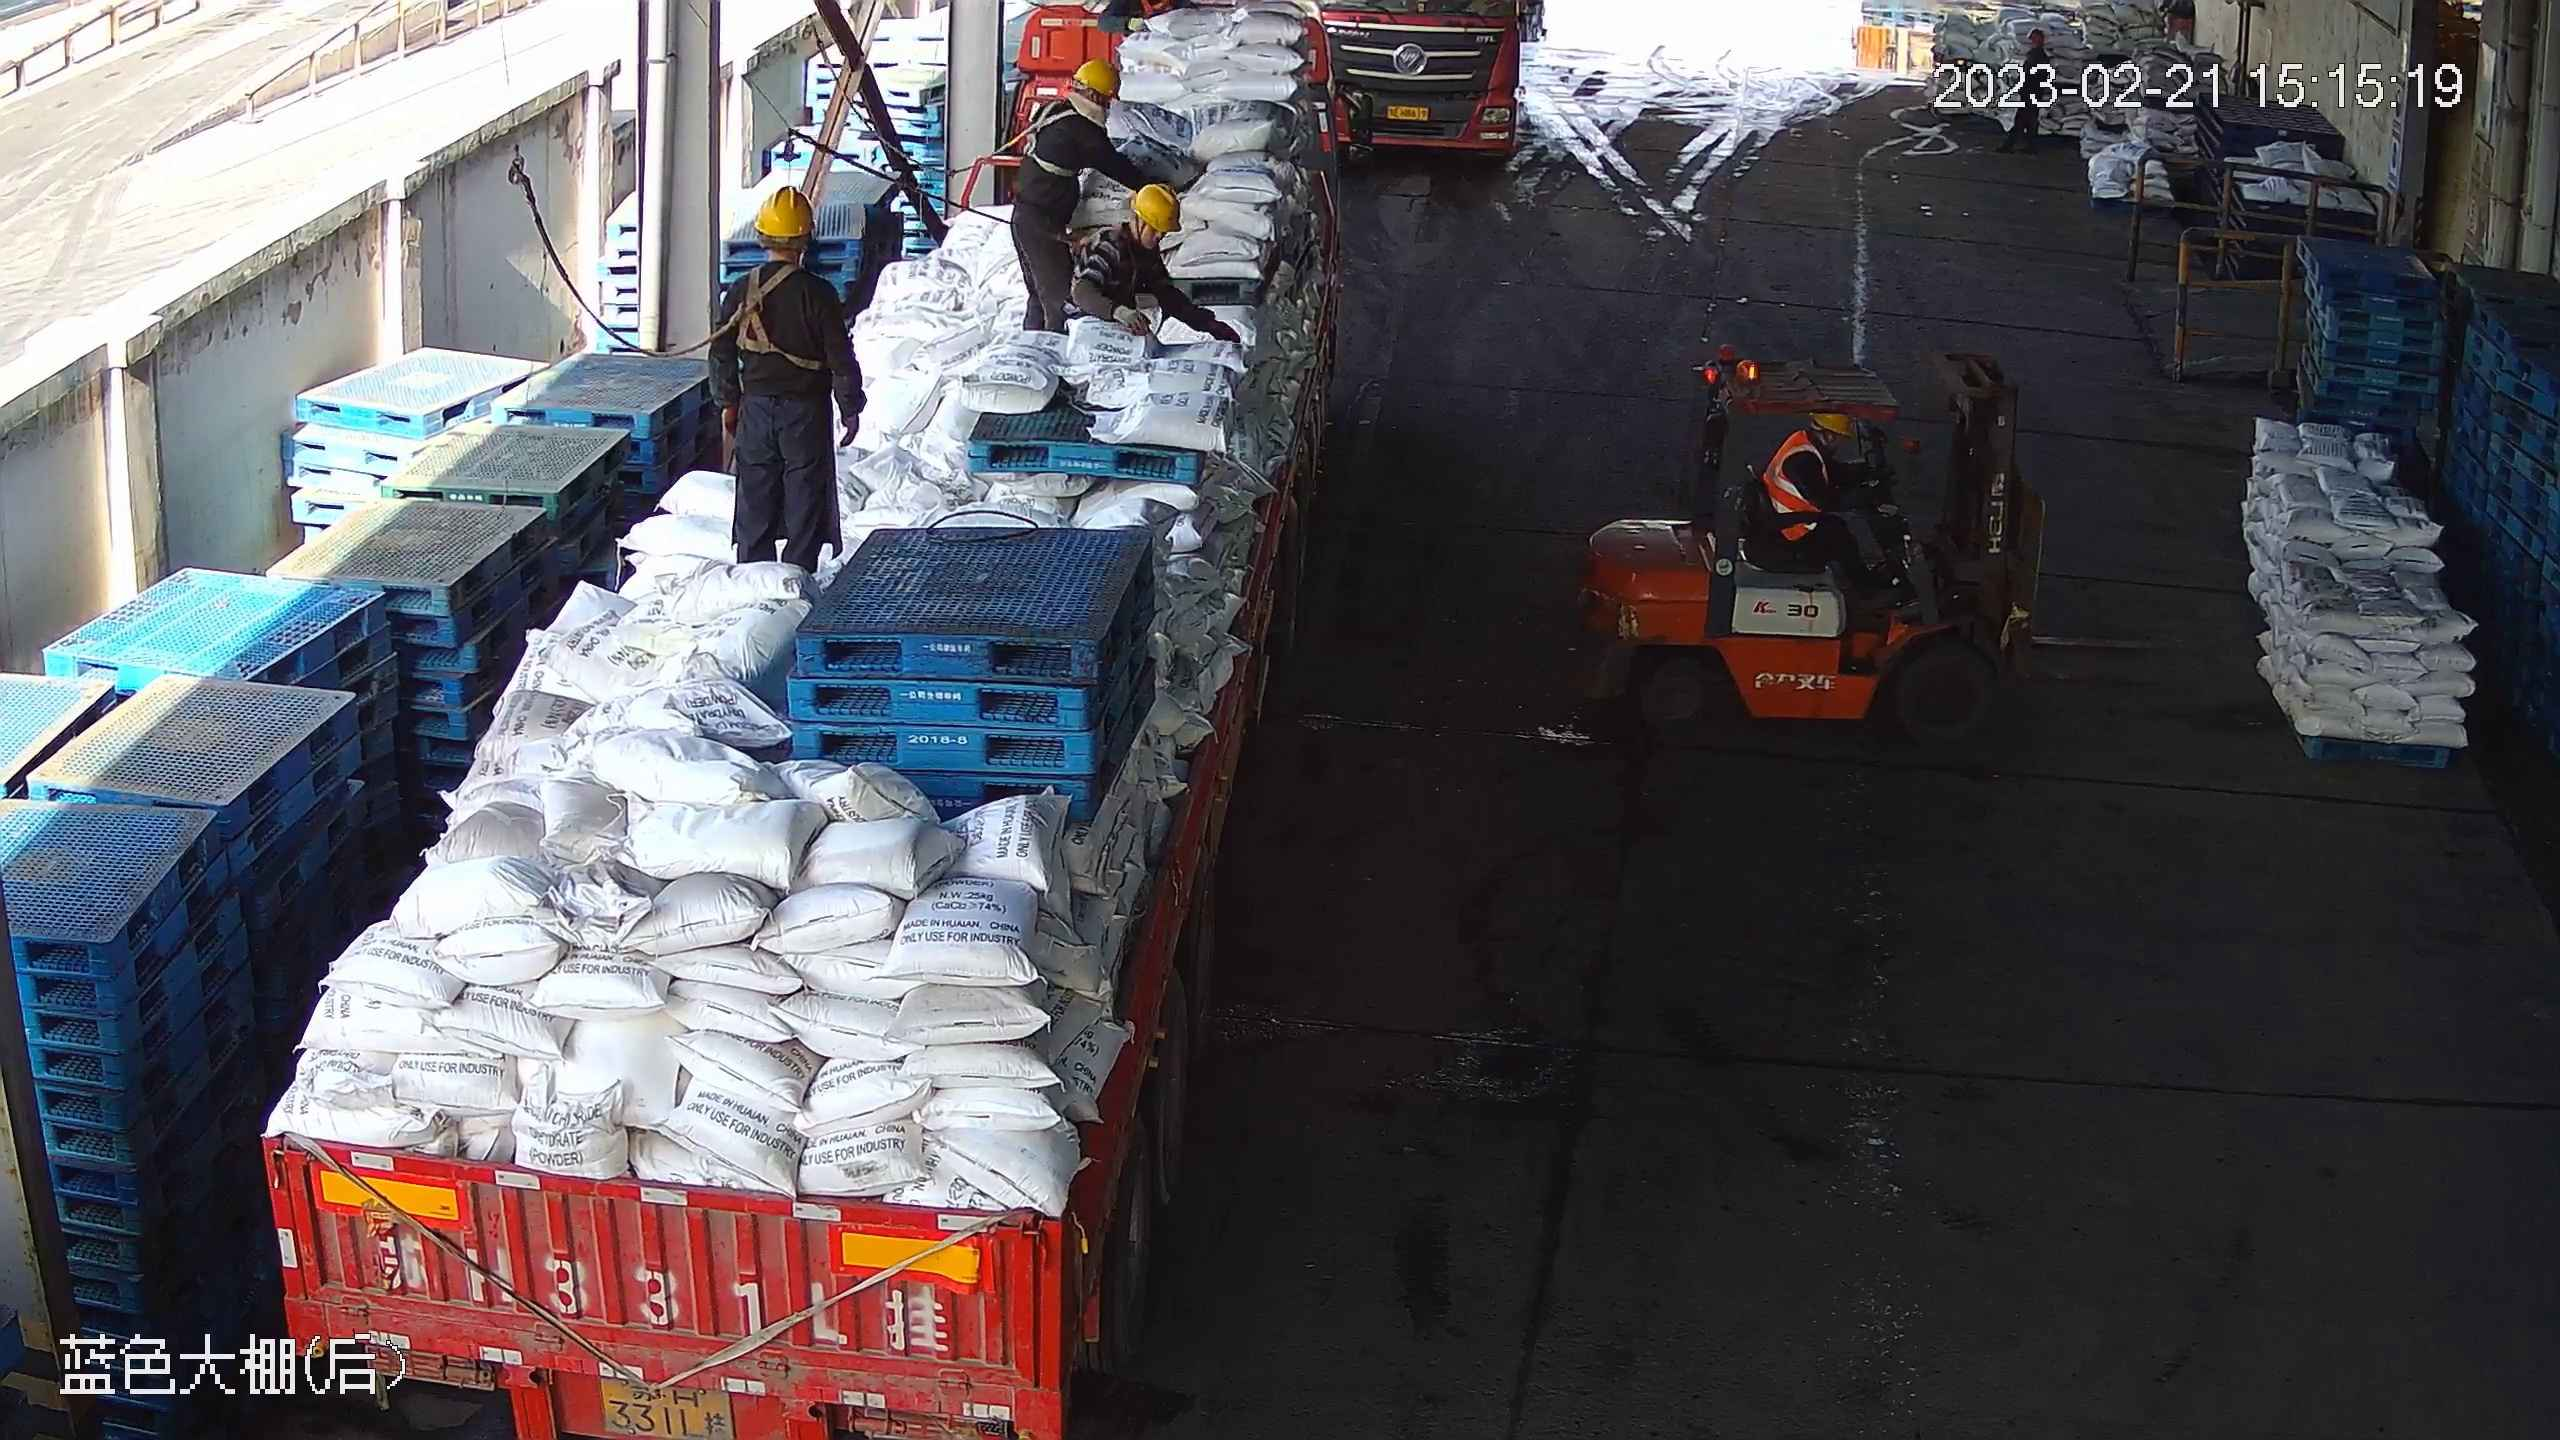belt: (728, 263, 835, 373), (1021, 88, 1099, 181), (1057, 212, 1123, 281)
head: (723, 188, 840, 327), (1018, 62, 1120, 166), (1092, 182, 1179, 288), (1768, 401, 1866, 490)
helmet: (1130, 179, 1188, 234), (1070, 51, 1129, 103), (751, 188, 820, 232), (1807, 401, 1859, 440)
people: (707, 175, 870, 586), (1014, 58, 1122, 336), (1755, 397, 1888, 582)
truck: (255, 1, 1318, 1425), (1303, 1, 1546, 173)
